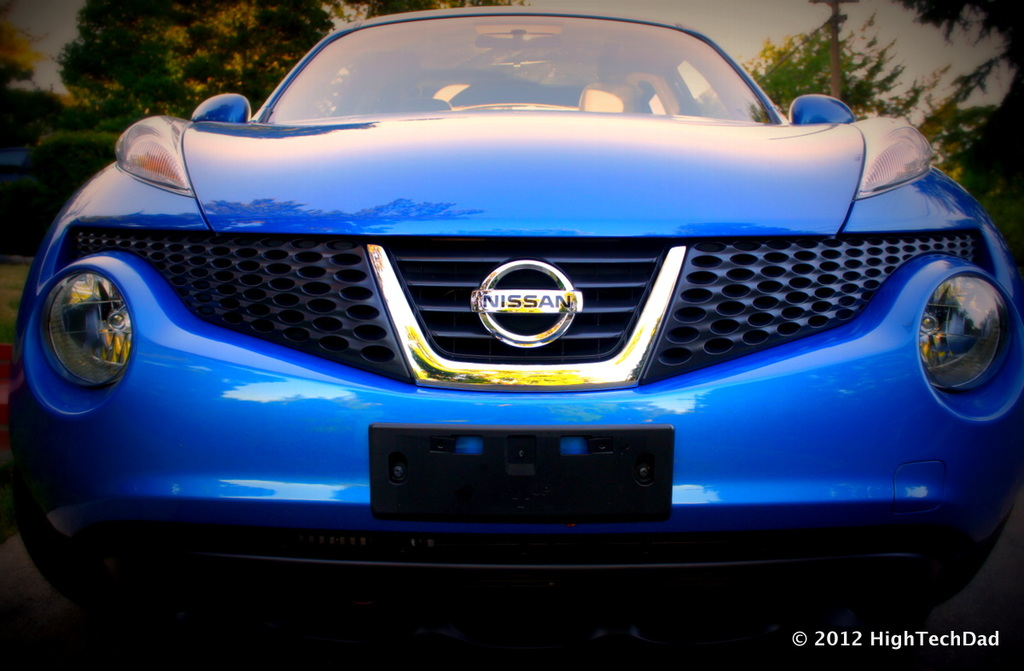Car: (8, 5, 1023, 646)
